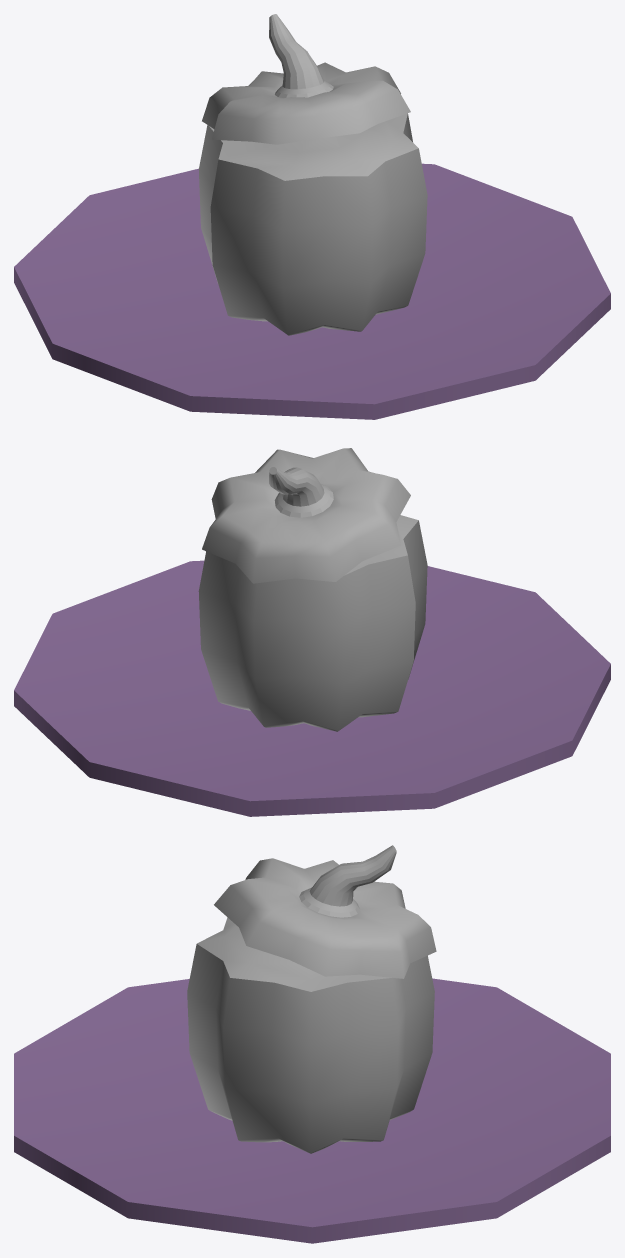
Rendered from Plato_Pimiento.fbx.
3 views of the same model, one above another, from view 1: azimuth 30°, elevation 25°; view 2: azimuth 150°, elevation 25°; view 3: azimuth 270°, elevation 25° (orthographic). The views are drawn at different scales.
Visible parts, largest first — view 1: Plato_Pimiento; view 2: Plato_Pimiento; view 3: Plato_Pimiento.
Boxes of the visible parts, left/top/right/bottom form: Plato_Pimiento: left=14, top=14, right=610, bottom=419; Plato_Pimiento: left=14, top=448, right=610, bottom=816; Plato_Pimiento: left=14, top=845, right=610, bottom=1243.
Bounding box in the file's own units: 2.27 × 1.21 × 2.15.
